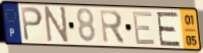8: (75, 7, 99, 46)
E: (155, 11, 182, 47), (131, 11, 157, 47)
N: (44, 5, 70, 45)
P: (20, 6, 44, 43)
R: (98, 9, 127, 46)
